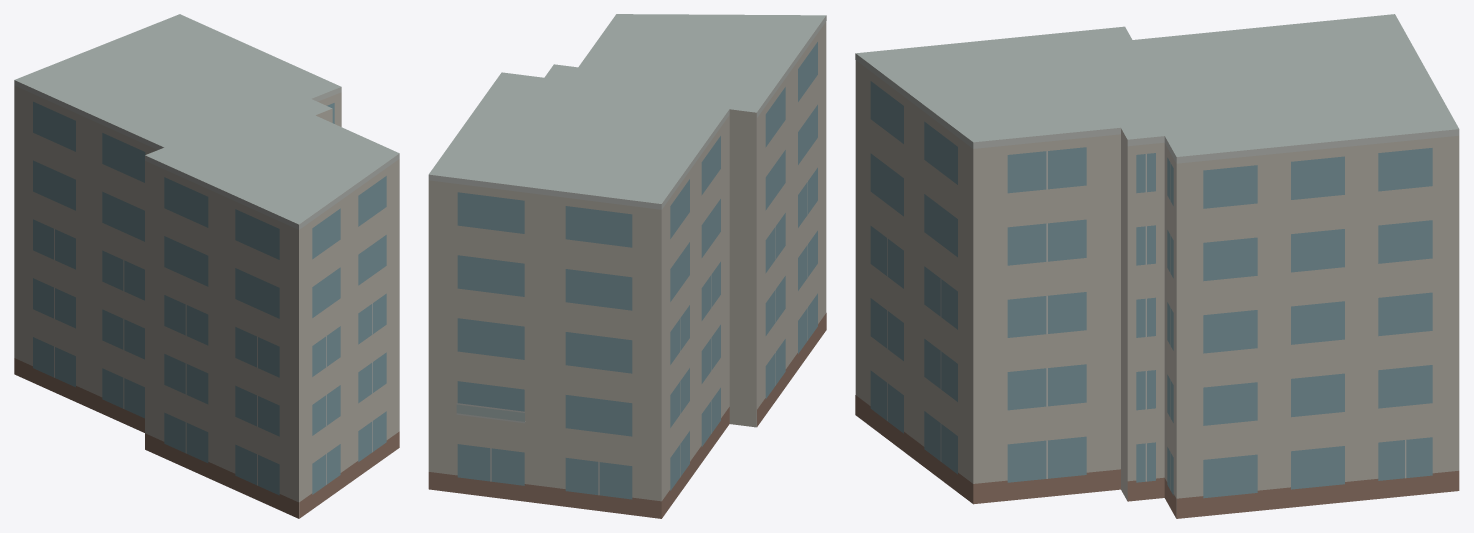
File: survey-upis-33009973.glb
The picture shows the model from 3 angles, left to right: view 1: azimuth 30°, elevation 25°; view 2: azimuth 150°, elevation 25°; view 3: azimuth 270°, elevation 25°; orthographic projection. The views are drawn at different scales.
Visible parts, largest first — view 1: survey-upis-33009973.tmp; view 2: survey-upis-33009973.tmp; view 3: survey-upis-33009973.tmp.
Part boxes in pixels (box(x1,y1,x2,y2)): survey-upis-33009973.tmp: box(14, 14, 399, 518); survey-upis-33009973.tmp: box(428, 14, 826, 518); survey-upis-33009973.tmp: box(855, 14, 1459, 518).
Bounding box in the file's own units: 11.38 × 13.4 × 20.28.
